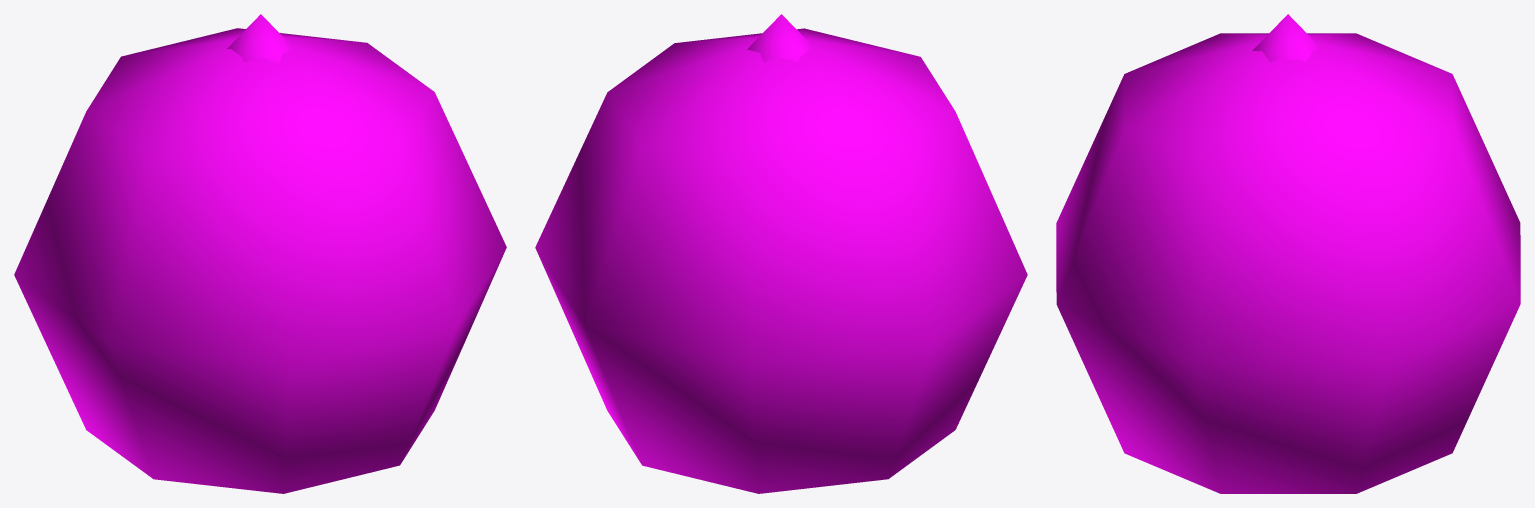
The picture shows the model from 3 angles, left to right: view 1: azimuth 30°, elevation 25°; view 2: azimuth 150°, elevation 25°; view 3: azimuth 270°, elevation 25°; orthographic projection.
Parts seen in each view (by area): view 1: Plane02; view 2: Plane02; view 3: Plane02.
Part boxes in pixels (x1,y1,x2,y2): Plane02: (14, 14, 506, 493); Plane02: (535, 14, 1027, 493); Plane02: (1056, 14, 1520, 493).
Bounding box in the file's own units: 0.0126 × 0.0143 × 0.0126.
